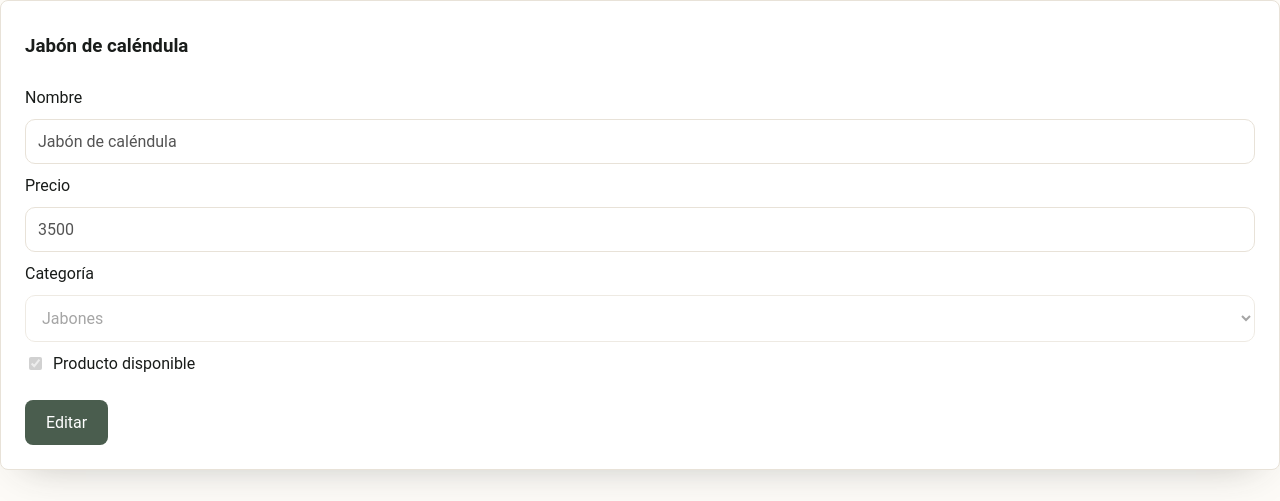
Test: componentes generales › permite editar, guardar y cancelar los cambios de un producto
This screenshot has width=1280, height=501.
Click the button "Editar": (67, 422) [25,400,108,445]
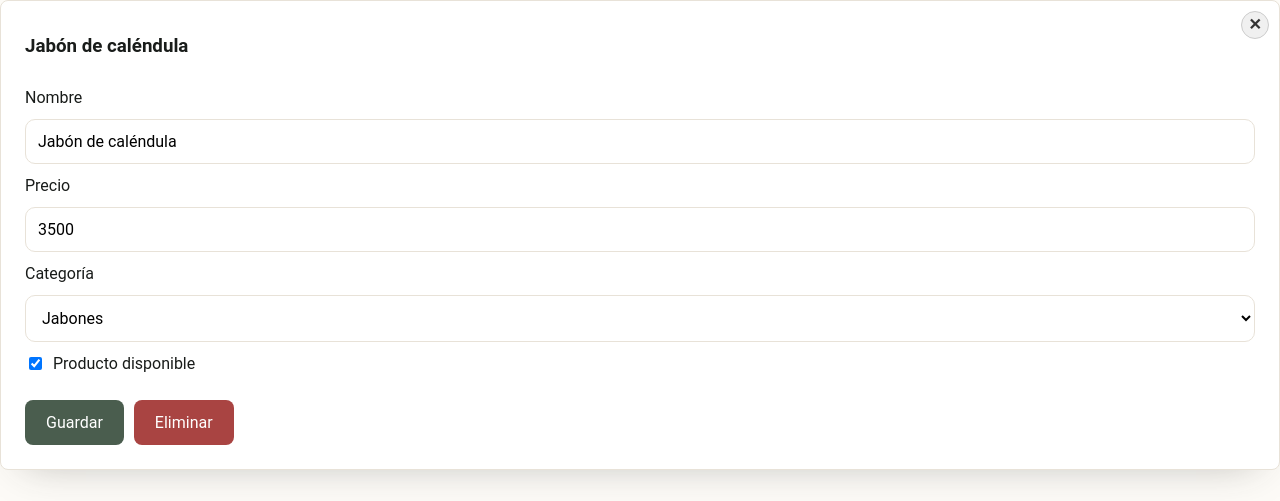
Replace the text in the field showing "Jabón de caléndula" with "Jabón nuevo": (640, 141) [25,119,1255,164]
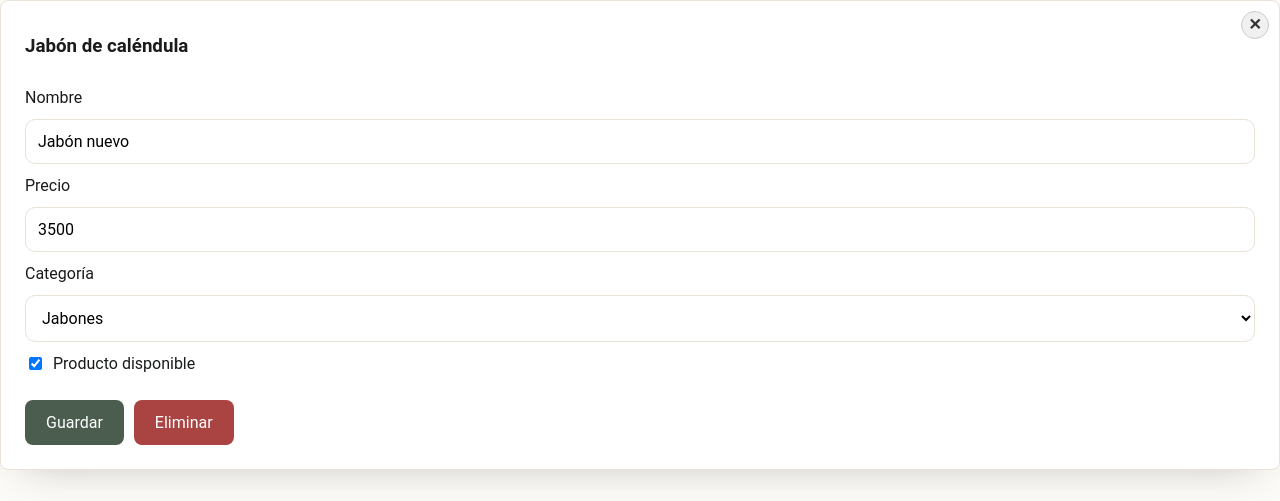
Replace the text in the number field showing "3500" with "4200": (640, 229) [25,207,1255,252]
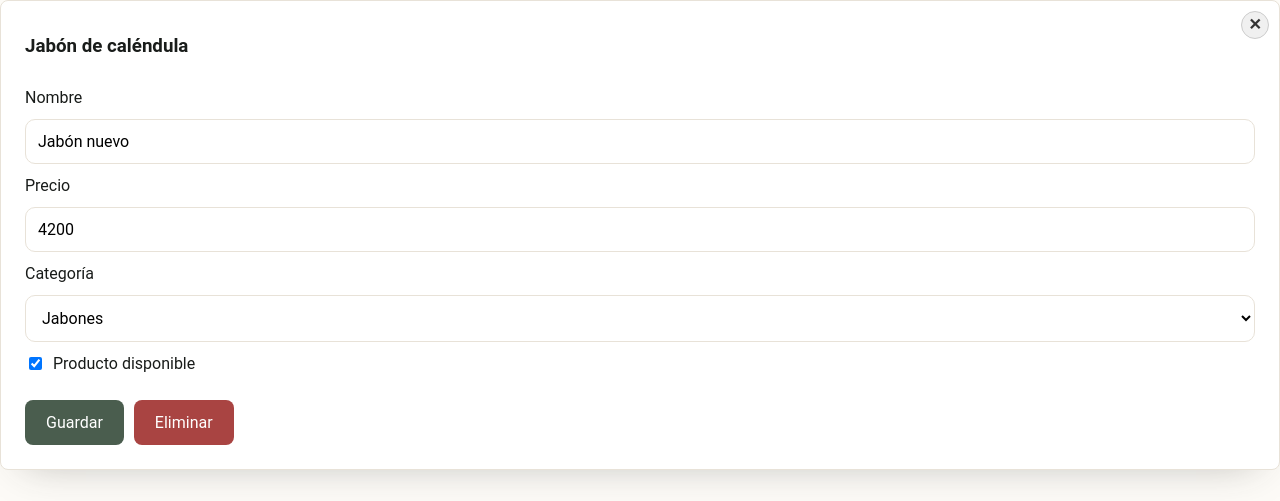
Click the button "Guardar": (74, 422) [25,400,124,445]
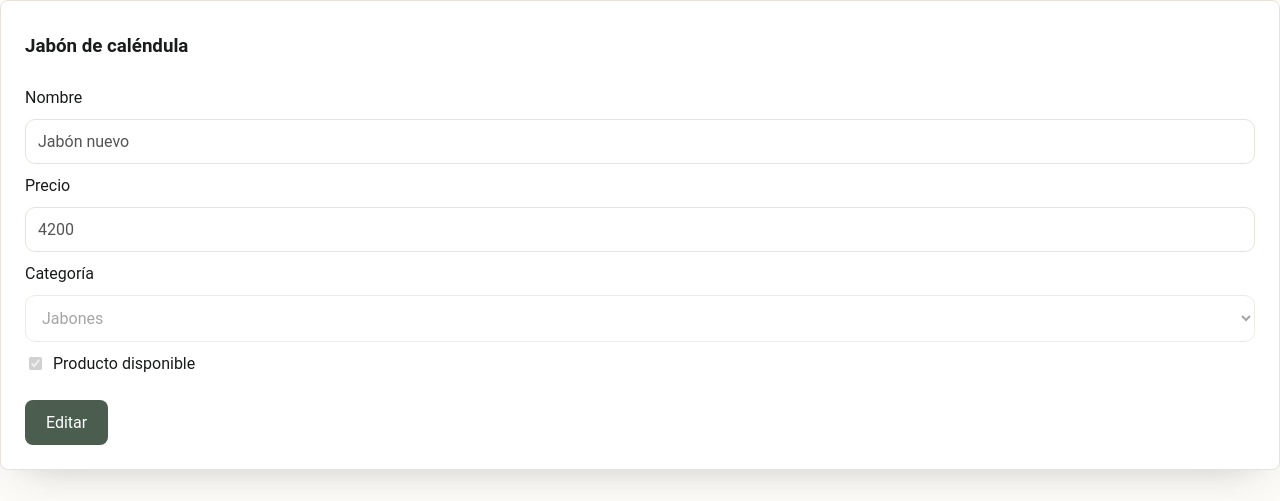
Click the button "Editar": (67, 422) [25,400,108,445]
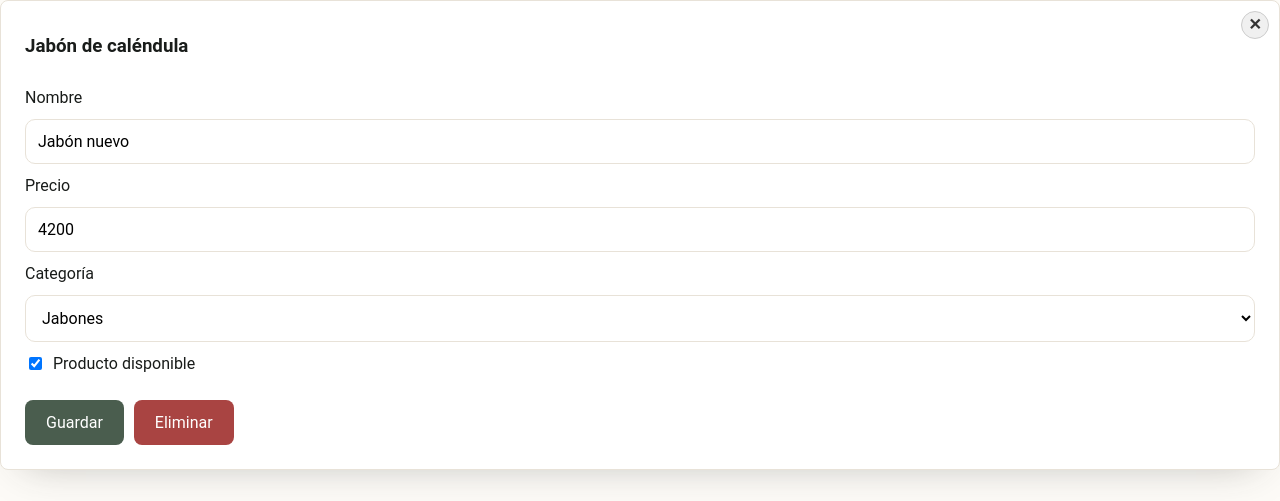
Click the button named "Cancelar edición": (1255, 25) [1241,11,1269,39]
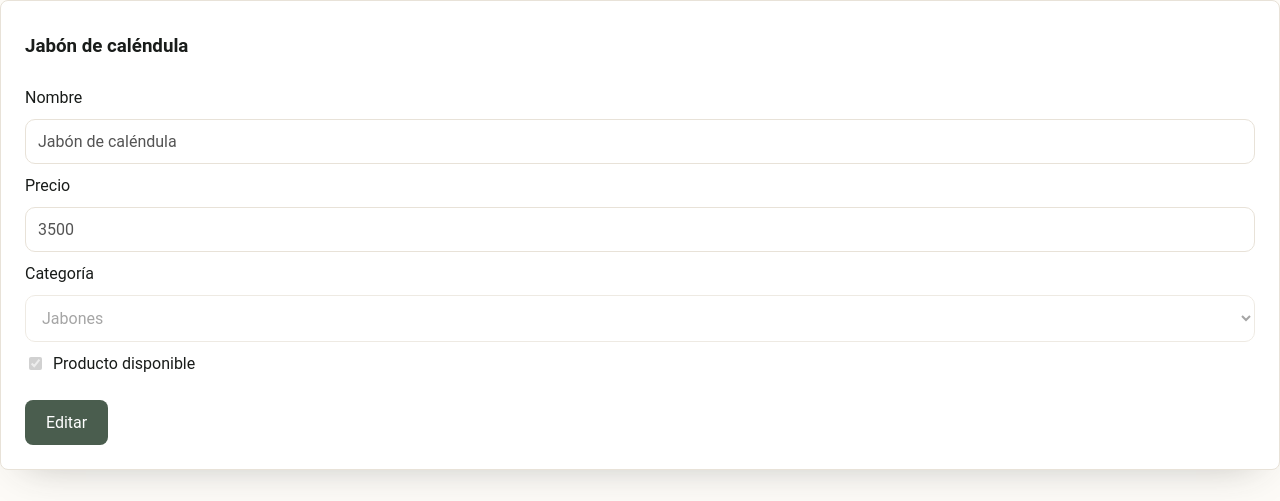
expect the field showing "Jabón de caléndula" is shown: met, box [25,119,1255,164]
